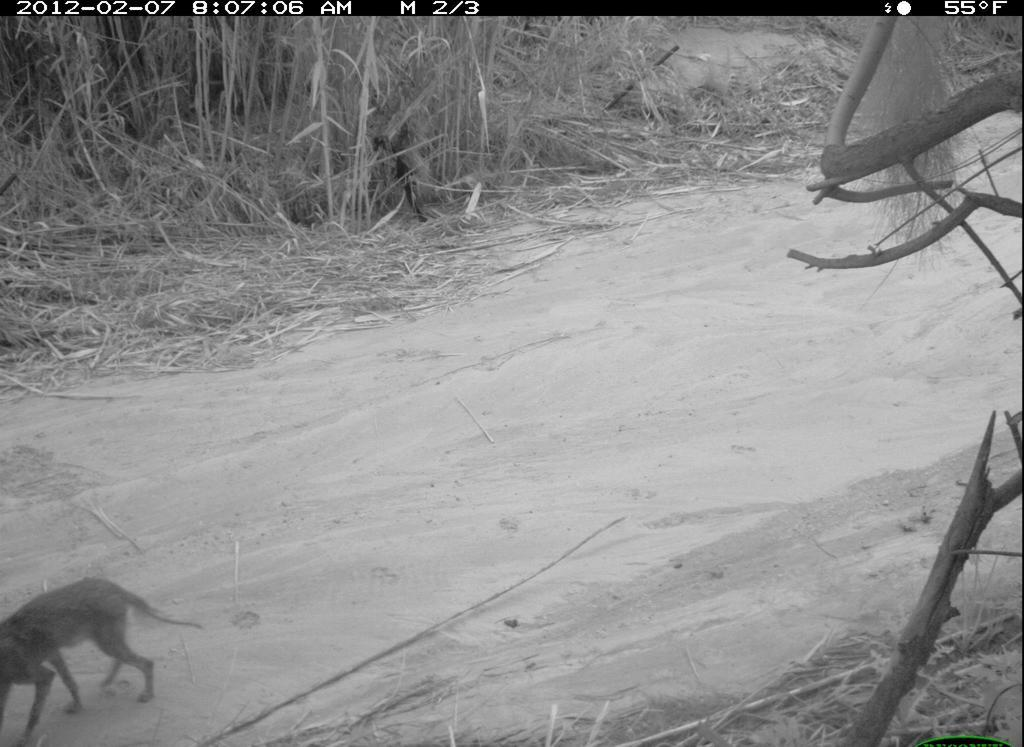coyote: (2, 562, 199, 730)
